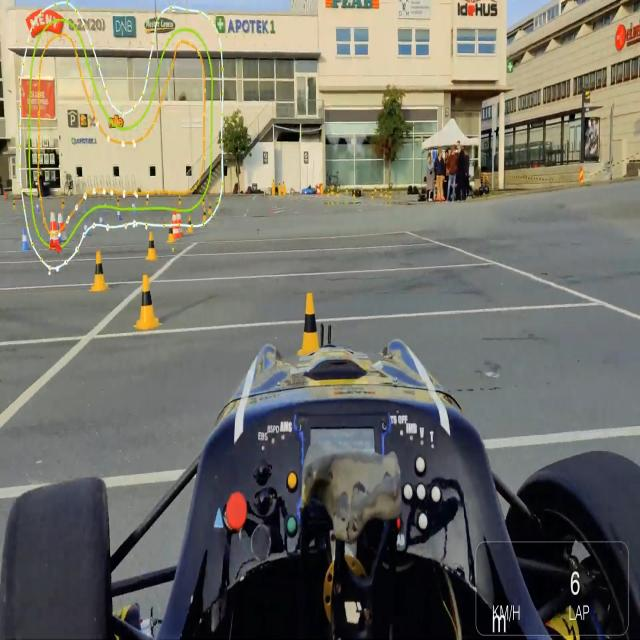blue_cone: (19, 226, 31, 253), (56, 223, 61, 246)
large_orange_cone: (46, 211, 61, 253), (56, 212, 64, 249), (171, 209, 178, 239), (176, 208, 183, 238)
yellow_cone: (298, 290, 322, 360), (133, 272, 159, 332), (90, 250, 109, 292), (146, 230, 157, 262), (166, 223, 175, 244), (187, 214, 193, 234), (208, 199, 213, 216), (202, 208, 207, 222), (178, 195, 182, 208), (282, 179, 286, 189), (202, 195, 205, 206), (272, 178, 275, 186), (278, 180, 281, 188)
